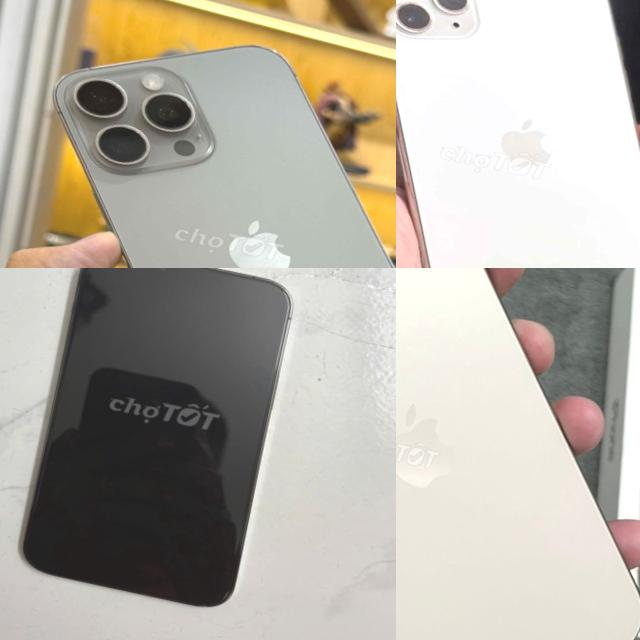gen_11: (396, 0, 640, 268)
gen_12_13: (7, 268, 308, 623)
gen_16: (0, 0, 396, 268), (396, 268, 640, 640)
